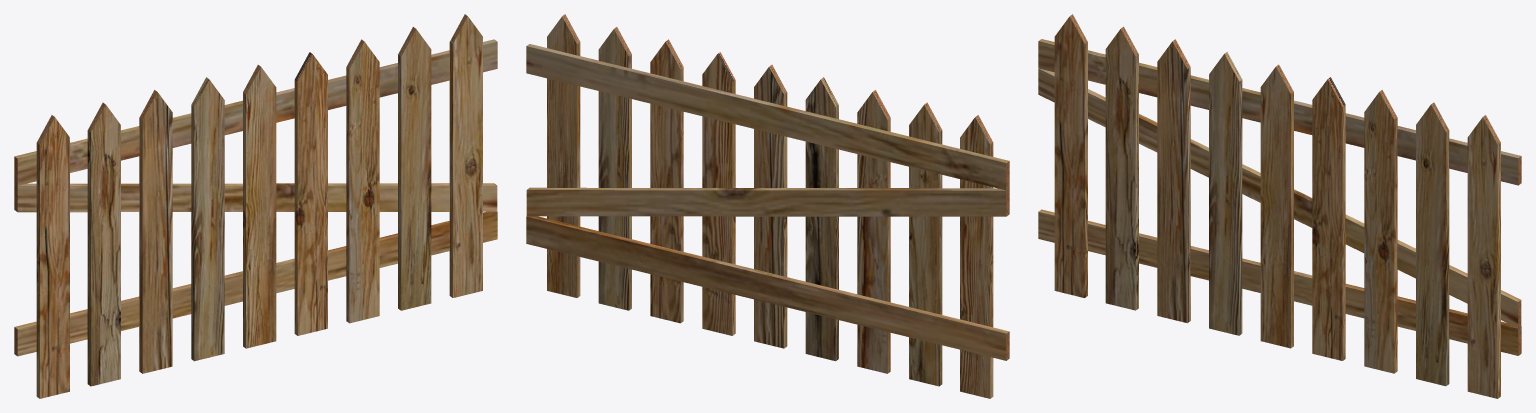
Rendered from fence_section.glb.
3 renders of one model, left to right at view 1: azimuth 30°, elevation 25°; view 2: azimuth 150°, elevation 25°; view 3: azimuth 330°, elevation 25°, orthographic.
Parts seen in each view (by area): view 1: FenceStyle1Long_Wood_T_0; view 2: FenceStyle1Long_Wood_T_0; view 3: FenceStyle1Long_Wood_T_0.
Part boxes in pixels (bbox=[...]): FenceStyle1Long_Wood_T_0: bbox=[14, 14, 497, 398]; FenceStyle1Long_Wood_T_0: bbox=[526, 14, 1009, 398]; FenceStyle1Long_Wood_T_0: bbox=[1038, 14, 1521, 398].
Size of the model in its own units: 1.8 by 0.9953 by 0.0404.
1 material, 1 textured.
